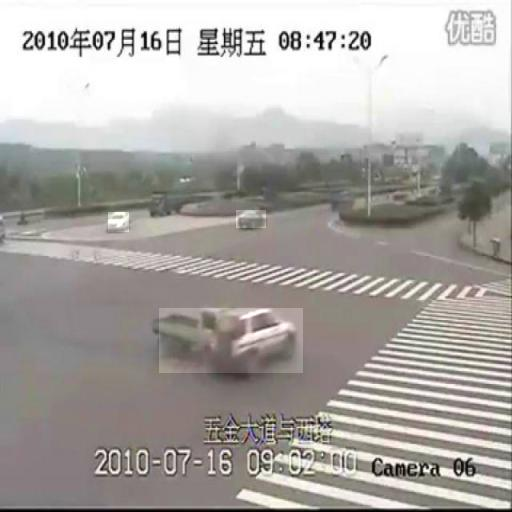小汽车: (236, 210, 266, 228), (108, 212, 129, 232)
小汽车撞小汽车: (159, 308, 303, 373)
